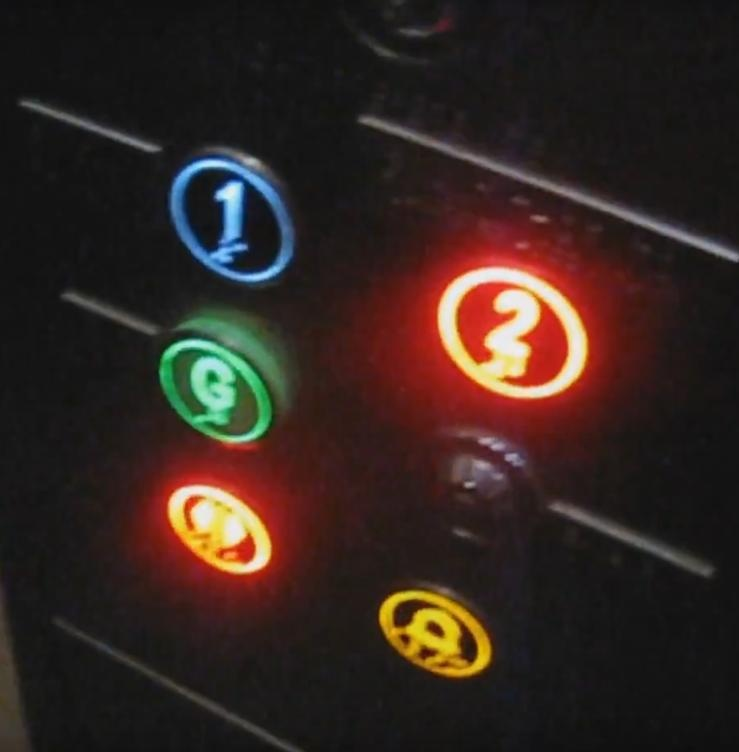1: (168, 146, 302, 288)
2: (434, 257, 590, 403)
G: (153, 314, 291, 452)
alarm: (373, 575, 502, 684)
blur: (411, 426, 543, 553)
open: (162, 473, 277, 577)
